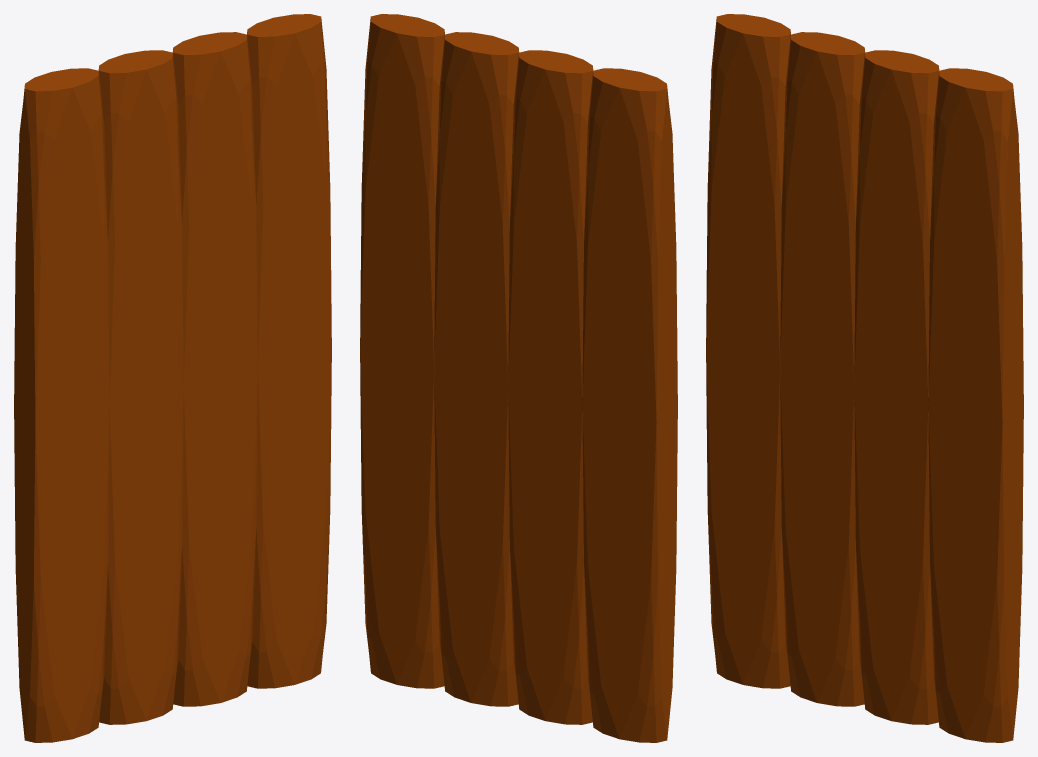
The model's file is Door.fbx.
The picture shows the model from 3 angles, left to right: view 1: azimuth 30°, elevation 25°; view 2: azimuth 150°, elevation 25°; view 3: azimuth 330°, elevation 25°; orthographic projection.
Visible parts, largest first — view 1: Cube.031, Cube.033, Cube.034, Cube.032; view 2: Cube.031, Cube.033, Cube.034, Cube.032; view 3: Cube.034, Cube.032, Cube.031, Cube.033.
Boxes of the visible parts, left/top/right/bottom form: Cube.031: left=14, top=68, right=109, bottom=742; Cube.033: left=172, top=32, right=257, bottom=706; Cube.034: left=247, top=14, right=331, bottom=688; Cube.032: left=98, top=50, right=183, bottom=724; Cube.031: left=582, top=68, right=677, bottom=742; Cube.033: left=434, top=32, right=519, bottom=706; Cube.034: left=360, top=14, right=444, bottom=688; Cube.032: left=508, top=50, right=593, bottom=724; Cube.034: left=928, top=68, right=1023, bottom=742; Cube.032: left=780, top=32, right=865, bottom=706; Cube.031: left=706, top=14, right=790, bottom=688; Cube.033: left=854, top=50, right=939, bottom=724.
Bounding box in the file's own units: 100 × 210 × 12.5.
